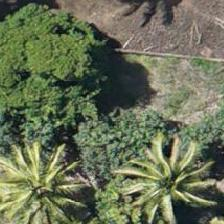coconut_tree: (120, 137, 210, 223), (0, 147, 87, 223)
